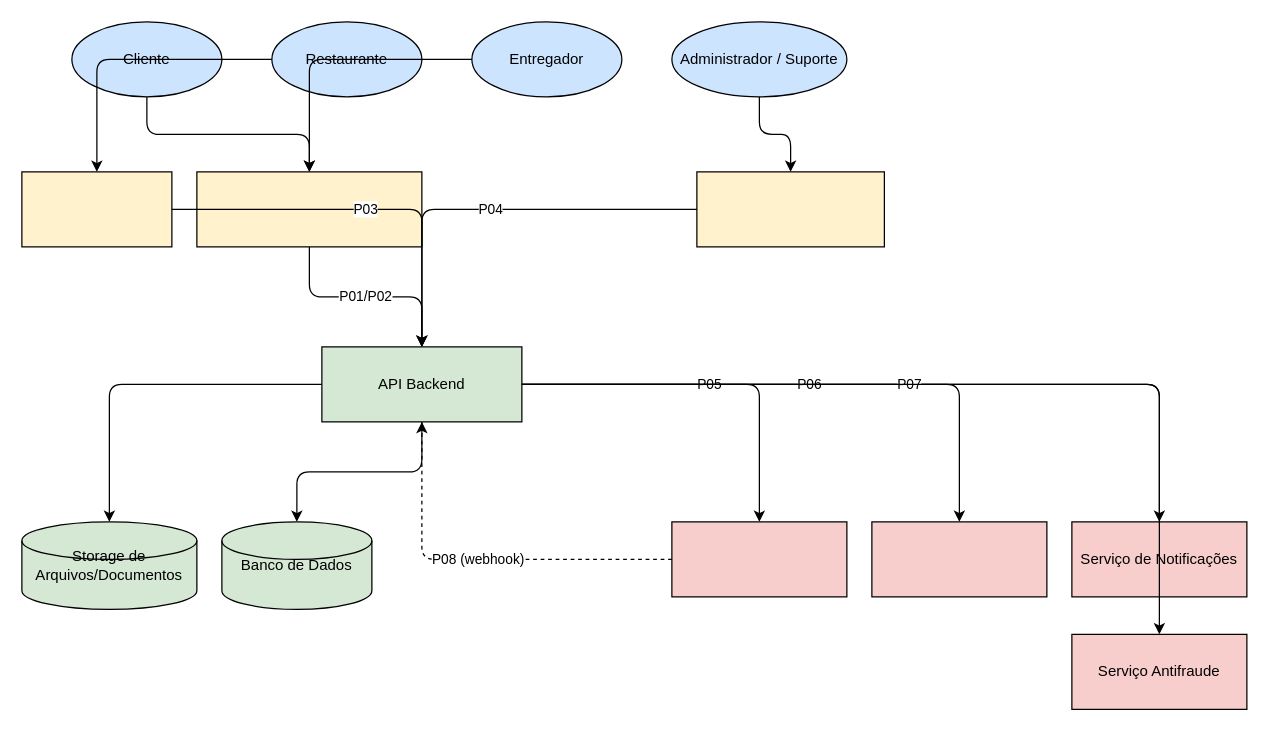
Some shapes in this 1269 by 731 pixel diagram are drawn without their labels. Each missing label, with the centre of its shape:
App Móvel (Cliente / Entregador): (x=309, y=209)
Backoffice (Admin / Suporte): (x=790, y=209)
Gateway de Pagamento: (x=759, y=559)
Painel Web (Restaurante): (x=96, y=209)
Provedor de Mapas/Rotas: (x=959, y=559)
